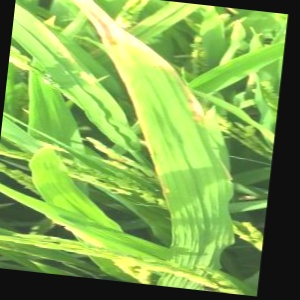Leaf_Blast: (110, 0, 204, 237)
